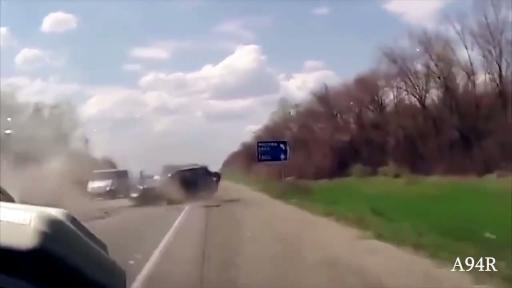Accident-fire-smoke: (1, 84, 238, 288)
